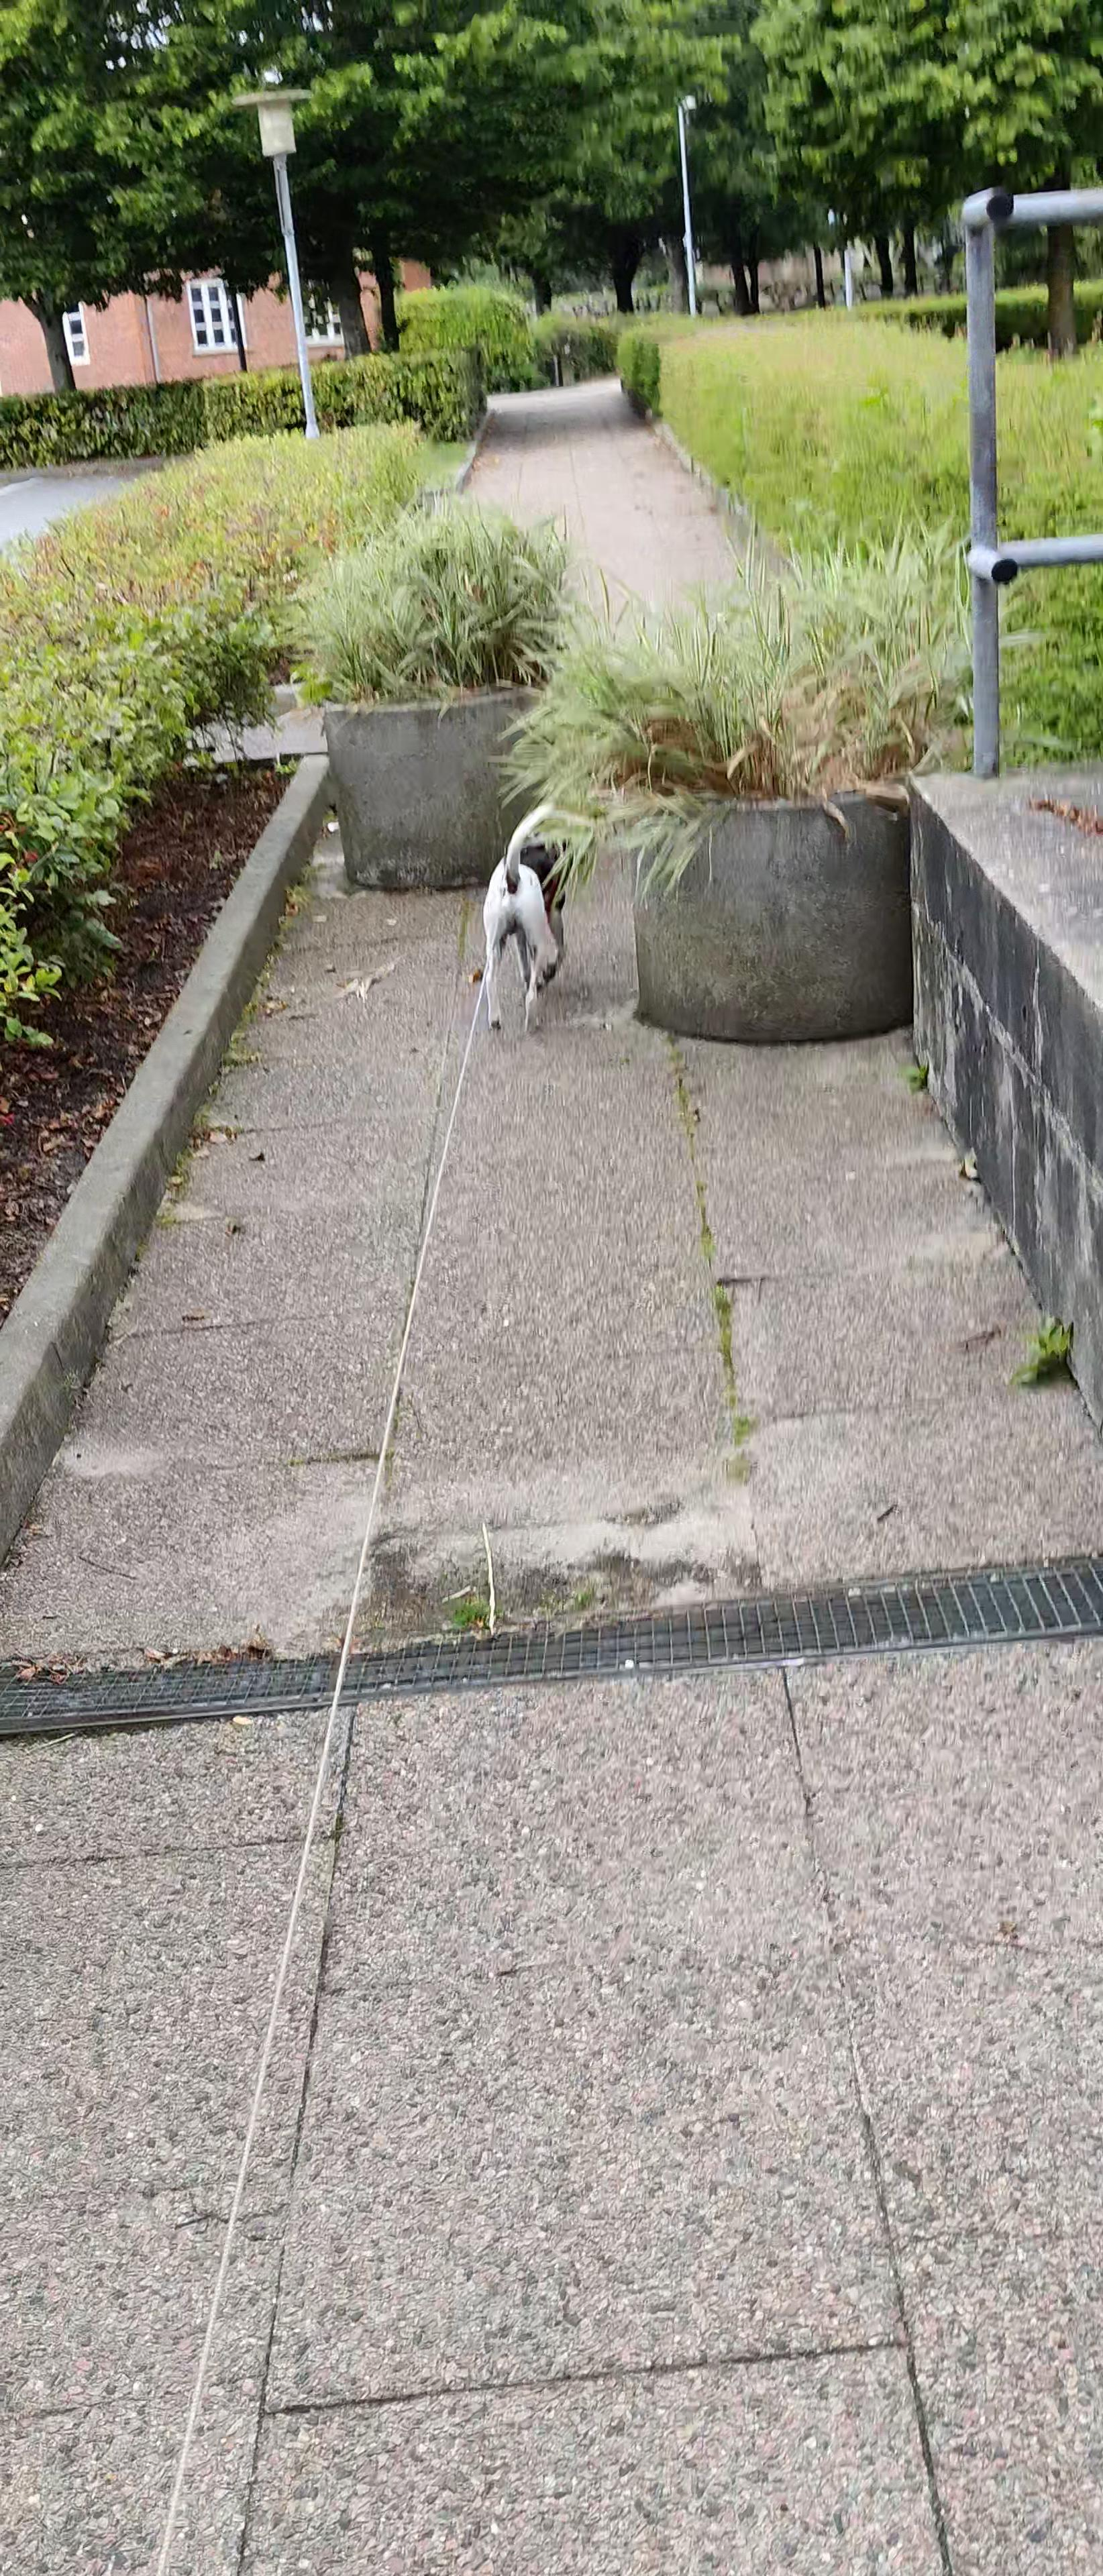Dog: (477, 795, 598, 1038)
